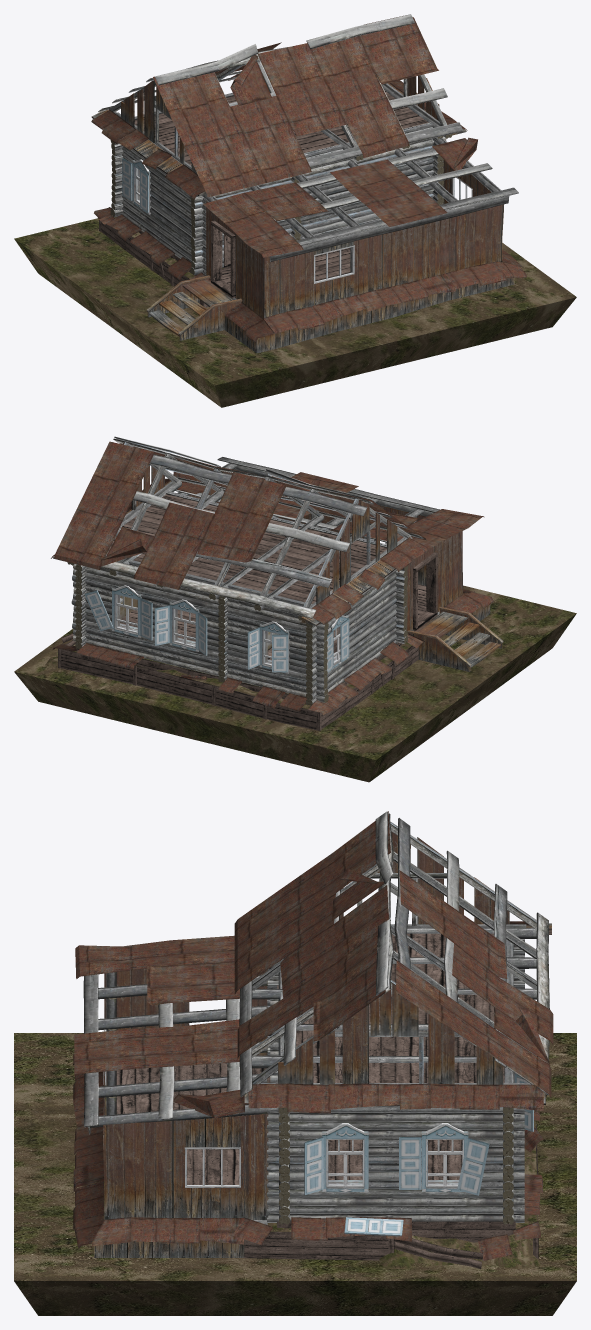
Rendered from old_vilage_house_lod_0.glb.
3 views of the same model, one above another, from view 1: azimuth 30°, elevation 25°; view 2: azimuth 150°, elevation 25°; view 3: azimuth 270°, elevation 25° (orthographic). The views are drawn at different scales.
Visible parts, largest first — view 1: LOD_0_Metall03, Terrain, LOD_0_WerandaWood, LOD_0_SrubWood_WoodPlanks_0, LOD_0_Obreshetka_stropily_WoodPlanks_0, LOD_0_Obreshetka_stropily_05 - Default_0, LOD_0_HouseInterior_04 - Default_0, LOD_0_DoorWood, LOD_0_ZavalinkaWood, LOD_0_HouseWindows, LOD_0_SrubWood_WoodBark_0, LOD_0_WerandaWindows_Window_0; view 2: Terrain, LOD_0_Metall03, LOD_0_SrubWood_WoodPlanks_0, LOD_0_Obreshetka_stropily_WoodPlanks_0, LOD_0_ZavalinkaWood, LOD_0_HouseWindows, LOD_0_WerandaWood, LOD_0_HouseInterior_04 - Default_0, LOD_0_Obreshetka_stropily_05 - Default_0, LOD_0_SrubWood_WoodBark_0, LOD_0_DoorWood, LOD_0_HouseInterior_WoodPlanks_0; view 3: LOD_0_Metall03, Terrain, LOD_0_SrubWood_WoodPlanks_0, LOD_0_WerandaWood, LOD_0_Obreshetka_stropily_WoodPlanks_0, LOD_0_Obreshetka_stropily_05 - Default_0, LOD_0_ZavalinkaWood, LOD_0_HouseWindows, LOD_0_HouseInterior_04 - Default_0, LOD_0_SrubWood_WoodBark_0, LOD_0_WerandaWindows_Window_0.
Part boxes in pixels (bbox=[...]): LOD_0_Metall03: bbox=[91, 15, 526, 342]; Terrain: bbox=[14, 218, 576, 407]; LOD_0_WerandaWood: bbox=[146, 160, 514, 353]; LOD_0_SrubWood_WoodPlanks_0: bbox=[112, 84, 518, 299]; LOD_0_Obreshetka_stropily_WoodPlanks_0: bbox=[98, 14, 463, 169]; LOD_0_Obreshetka_stropily_05 - Default_0: bbox=[92, 75, 466, 196]; LOD_0_HouseInterior_04 - Default_0: bbox=[134, 87, 428, 259]; LOD_0_DoorWood: bbox=[211, 220, 235, 298]; LOD_0_ZavalinkaWood: bbox=[99, 215, 230, 307]; LOD_0_HouseWindows: bbox=[122, 158, 150, 214]; LOD_0_SrubWood_WoodBark_0: bbox=[110, 134, 452, 274]; LOD_0_WerandaWindows_Window_0: bbox=[314, 177, 472, 283]; Terrain: bbox=[14, 585, 576, 782]; LOD_0_Metall03: bbox=[51, 441, 493, 714]; LOD_0_SrubWood_WoodPlanks_0: bbox=[71, 457, 439, 703]; LOD_0_Obreshetka_stropily_WoodPlanks_0: bbox=[101, 436, 423, 618]; LOD_0_ZavalinkaWood: bbox=[45, 633, 418, 731]; LOD_0_HouseWindows: bbox=[84, 585, 349, 673]; LOD_0_WerandaWood: bbox=[188, 469, 503, 671]; LOD_0_HouseInterior_04 - Default_0: bbox=[107, 494, 386, 660]; LOD_0_Obreshetka_stropily_05 - Default_0: bbox=[53, 443, 397, 625]; LOD_0_SrubWood_WoodBark_0: bbox=[67, 562, 408, 705]; LOD_0_DoorWood: bbox=[413, 552, 437, 630]; LOD_0_HouseInterior_WoodPlanks_0: bbox=[105, 491, 386, 606]; LOD_0_Metall03: bbox=[73, 811, 553, 1260]; Terrain: bbox=[14, 1033, 576, 1315]; LOD_0_SrubWood_WoodPlanks_0: bbox=[83, 927, 546, 1224]; LOD_0_WerandaWood: bbox=[87, 968, 270, 1257]; LOD_0_Obreshetka_stropily_WoodPlanks_0: bbox=[239, 811, 549, 1097]; LOD_0_Obreshetka_stropily_05 - Default_0: bbox=[244, 832, 551, 1103]; LOD_0_ZavalinkaWood: bbox=[244, 1110, 541, 1268]; LOD_0_HouseWindows: bbox=[304, 1072, 533, 1236]; LOD_0_HouseInterior_04 - Default_0: bbox=[296, 933, 504, 1179]; LOD_0_SrubWood_WoodBark_0: bbox=[108, 981, 513, 1224]; LOD_0_WerandaWindows_Window_0: bbox=[103, 1029, 240, 1187].
Bounding box in the file's own units: 123 × 75.41 × 118.
Materials: 8 (8 with a texture image).
